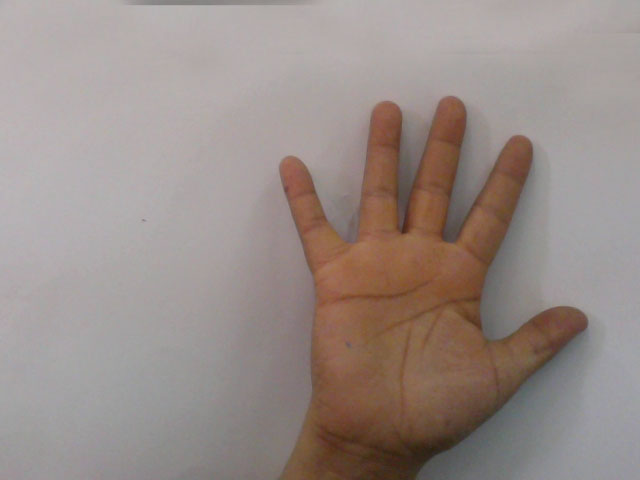hand: (259, 86, 604, 456)
